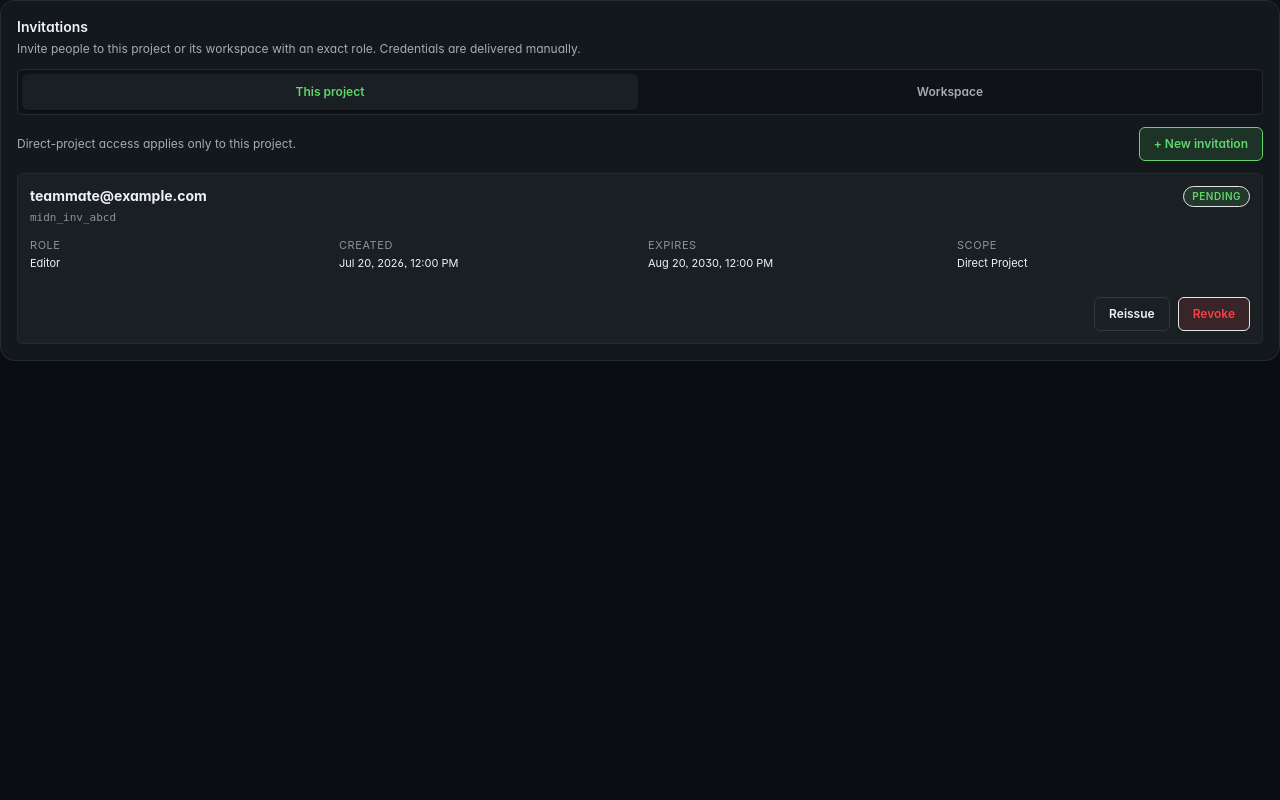
Test: ProjectInvitations › reissues as an atomic replacement and reveals only the replacement
Click the button "Reissue" at (1132, 314), box [1094, 297, 1170, 331]
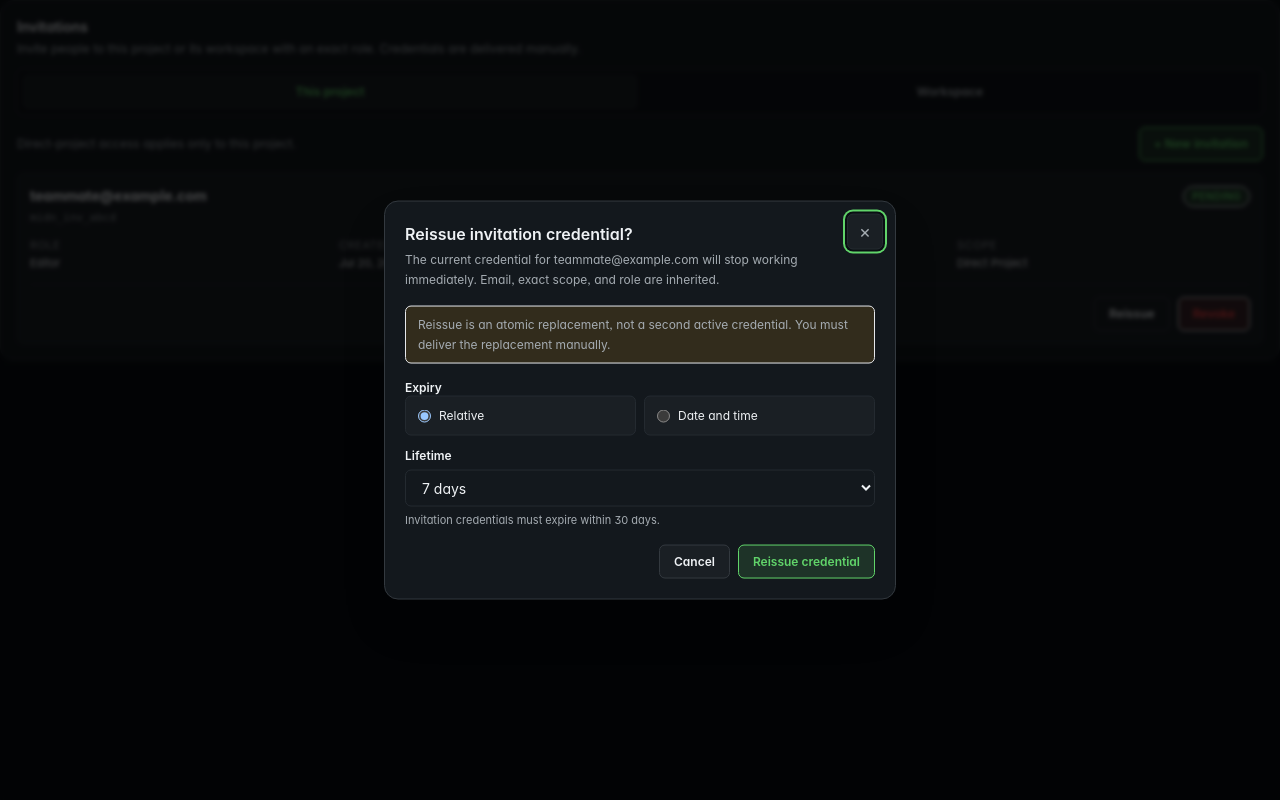
expect the text "atomic replacement, not a second active credential" is shown: met, box [418, 316, 848, 352]
Click the button "Reissue credential" at (806, 562), box [738, 544, 875, 578]
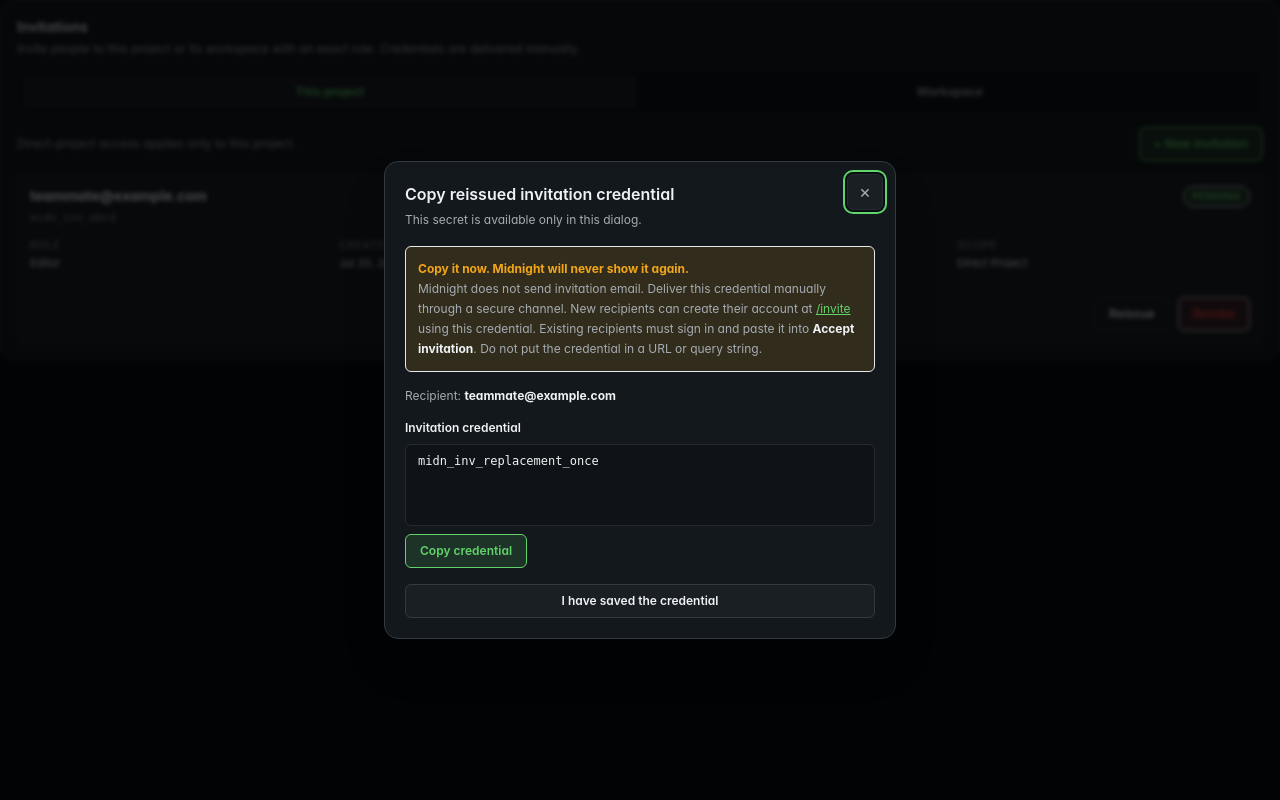
expect the text box showing "midn_inv_replacement_once" is shown: met, box [405, 444, 875, 526]
